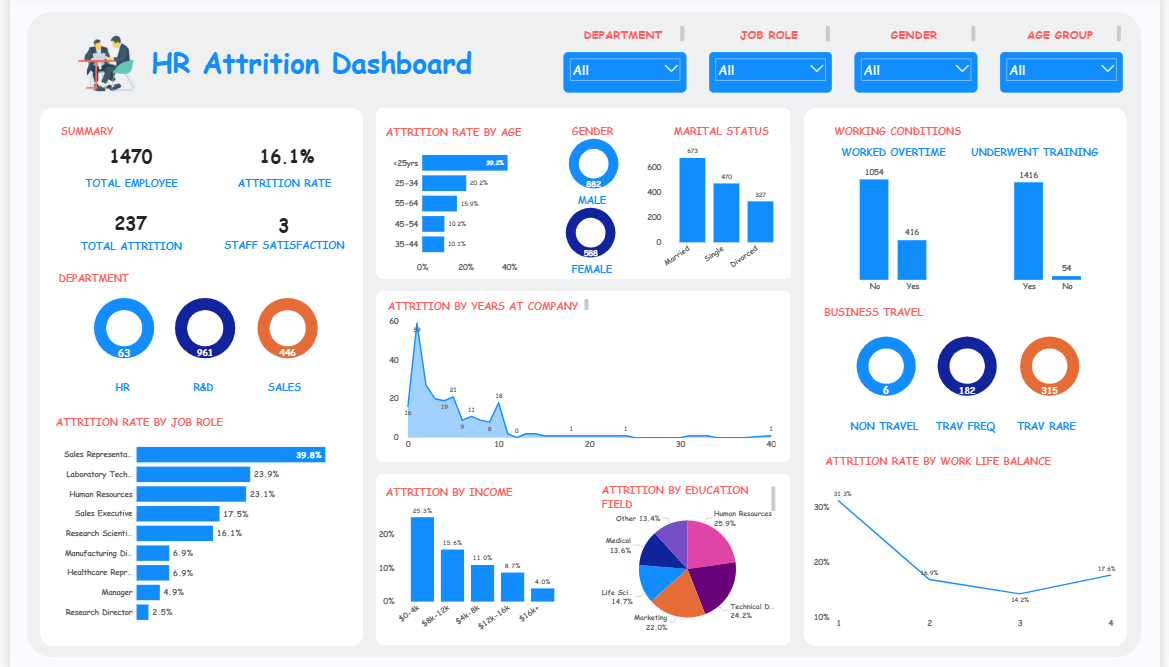

The page's visual inventory and layout, read from the dashboard file:
{"tool":"powerbi","page":{"name":"Page 1","canvas":[2440,1440],"ordinal":0},"visuals":[{"type":"shape","box":[35,35,2365,1370],"z":0},{"type":"textbox","box":[1175,58.9,260.7,42.9],"z":0,"group":"g4"},{"type":"textbox","box":[78.6,578.6,196.4,42.9],"z":0,"group":"g5"},{"type":"donutChart","fields":{"Category":["HR_Data.Department"],"Y":["CountNonNull(HR_Data.EmployeeCount)"]},"box":[135.7,600,210,210],"z":0,"group":"g1"},{"type":"textbox","box":[1696.9,653.1,271.4,44.6],"z":0,"group":"g8"},{"type":"donutChart","fields":{"Y":["CountNonNull(HR_Data.EmployeeCount)"],"Category":["HR_Data.BusinessTravel"]},"box":[1754,677,210,218.3],"z":0,"group":"g2"},{"type":"barChart","fields":{"Category":["HR_Data.JobRole"],"Y":["HR_Data.Attrition Rate"]},"box":[96.5,928.6,635.7,425],"z":0,"group":"g6"},{"type":"textbox","box":[1483.3,58.9,260.7,42.9],"z":1000,"group":"g4"},{"type":"textbox","box":[275,96.4,732.1,110.7],"z":1000},{"type":"group","id":"g1","title":"Group 3","box":[135.7,600,557.1,210.7],"z":1000,"group":"g5"},{"type":"donutChart","fields":{"Category":["HR_Data.Department"],"Y":["CountNonNull(HR_Data.EmployeeCount)"]},"box":[482.1,600,210,210],"z":1000,"group":"g1"},{"type":"group","id":"g2","title":"Group 3","box":[1754,677,557.1,219.1],"z":1000,"group":"g8"},{"type":"donutChart","fields":{"Y":["CountNonNull(HR_Data.EmployeeCount)"],"Category":["HR_Data.BusinessTravel"]},"box":[2100.4,677,210,218.3],"z":1000,"group":"g2"},{"type":"textbox","box":[92.9,885.7,635.7,42.9],"z":1000,"group":"g6"},{"type":"textbox","box":[1791.7,58.9,260.7,42.9],"z":2000,"group":"g4"},{"type":"image","box":[135.7,82.1,139.3,125],"z":2000},{"type":"donutChart","fields":{"Category":["HR_Data.Department"],"Y":["CountNonNull(HR_Data.EmployeeCount)"]},"box":[308.9,600,210,210],"z":2000,"group":"g1"},{"type":"donutChart","fields":{"Y":["CountNonNull(HR_Data.EmployeeCount)"],"Category":["HR_Data.BusinessTravel"]},"box":[1927.2,677,210,218.3],"z":2000,"group":"g2"},{"type":"textbox","box":[435.7,810.7,292.9,42.9],"z":2000,"group":"g5"},{"type":"textbox","box":[2054,896,292.9,44.6],"z":2000,"group":"g8"},{"type":"textbox","box":[2100,58.9,260.7,42.9],"z":3000,"group":"g4"},{"type":"group","id":"g3","title":"Group 1","box":[1175,121.4,1185.7,85.7],"z":3000},{"type":"slicer","fields":{"Values":["HR_Data.Department"]},"box":[1175,121.4,260.7,85.7],"z":3000,"group":"g3"},{"type":"textbox","box":[264.3,810.7,292.9,42.9],"z":3000,"group":"g5"},{"type":"textbox","box":[1882.6,896,292.9,44.6],"z":3000,"group":"g8"},{"type":"group","id":"g4","title":"Group 2","box":[1175,58.9,1185.7,42.9],"z":4000},{"type":"slicer","fields":{"Values":["HR_Data.JobRole"]},"box":[1483.3,121.4,260.7,85.7],"z":4000,"group":"g3"},{"type":"textbox","box":[92.9,810.7,292.9,42.9],"z":4000,"group":"g5"},{"type":"textbox","box":[1711.2,896,292.9,44.6],"z":4000,"group":"g8"},{"type":"slicer","fields":{"Values":["HR_Data.Gender"]},"box":[1791.7,121.4,260.7,85.7],"z":5000,"group":"g3"},{"type":"textbox","box":[1092.5,407.5,292.5,42.5],"z":5000},{"type":"slicer","fields":{"Values":["HR_Data.Age Group"]},"box":[2100,121.4,260.7,85.7],"z":6000,"group":"g3"},{"type":"shape","box":[64.3,239.3,685.7,1142.9],"z":6000},{"type":"shape","box":[1682.1,239.3,685.7,1142.9],"z":7000},{"type":"textbox","box":[78.6,267.9,168,42.9],"z":7000,"group":"g7"},{"type":"card","fields":{"Values":["HR_Data.Total Employees"]},"box":[184.5,289.3,142.4,103.6],"z":8000,"group":"g7"},{"type":"textbox","box":[1725,313.9,299.8,45.1],"z":8000,"group":"g9"},{"type":"group","id":"g5","title":"Group 4","box":[78.6,578.6,650,275],"z":8000},{"type":"textbox","box":[1742.8,268.8,317.6,45.1],"z":9000,"group":"g9"},{"type":"card","fields":{"Values":["HR_Data.Staff Satisfaction"]},"box":[509.4,435.8,142.4,103.6],"z":9000,"group":"g7"},{"type":"group","id":"g6","title":"Group 5","box":[92.9,885.7,639.3,467.9],"z":9000},{"type":"group","id":"g7","title":"Group 6","box":[78.6,267.9,653.6,289.3],"z":10000},{"type":"card","fields":{"Values":["HR_Data.Total Attrition"]},"box":[184.5,432.2,142.4,103.6],"z":10000,"group":"g7"},{"type":"card","fields":{"Values":["HR_Data.Attrition Rate"]},"box":[513.1,289.3,142.4,103.6],"z":11000,"group":"g7"},{"type":"group","id":"g8","title":"Group 4","box":[1696.9,653.1,650,287.5],"z":11000},{"type":"shape","box":[775.9,237.9,879.3,364],"z":12000},{"type":"textbox","box":[107.8,378.6,299.4,42.9],"z":12000,"group":"g7"},{"type":"columnChart","fields":{"Category":["HR_Data.OverTime"],"Y":["CountNonNull(HR_Data.EmployeeCount)"]},"box":[1725,347.7,299.8,293],"z":13000,"group":"g9"},{"type":"textbox","box":[432.8,378.6,299.4,42.9],"z":13000,"group":"g7"},{"type":"shape","box":[775.9,625.9,879.3,364],"z":13000},{"type":"columnChart","fields":{"Y":["CountNonNull(HR_Data.EmployeeCount)"],"Category":["HR_Data.UnderwentTraining"]},"box":[2053.3,347.7,299.8,293],"z":14000,"group":"g9"},{"type":"textbox","box":[107.8,514.3,299.4,42.9],"z":14000,"group":"g7"},{"type":"shape","box":[775.9,1013.8,879.3,364],"z":14000},{"type":"textbox","box":[793.1,269,320.7,41.4],"z":15000},{"type":"textbox","box":[2024.8,313.9,299.8,45.1],"z":15000,"group":"g9"},{"type":"textbox","box":[432.8,510.8,299.4,42.9],"z":15000,"group":"g7"},{"type":"textbox","box":[1186.7,268.3,320,41.7],"z":16000},{"type":"textbox","box":[1403.3,268.3,321.7,41.7],"z":17000},{"type":"barChart","fields":{"Category":["HR_Data.Age Group"],"Y":["HR_Data.Attrition Rate"]},"box":[804,310,310,290],"z":18000},{"type":"donutChart","fields":{"Category":["HR_Data.Gender"],"Y":["CountNonNull(HR_Data.EmployeeCount)"]},"box":[1132.5,280,210,155],"z":19000},{"type":"donutChart","fields":{"Category":["HR_Data.Gender"],"Y":["CountNonNull(HR_Data.EmployeeCount)"]},"box":[1126.7,426.7,210,155],"z":20000},{"type":"columnChart","fields":{"Category":["HR_Data.MaritalStatus"],"Y":["Sum(HR_Data.EmployeeCount)"]},"box":[1345,310,310,291.7],"z":21000},{"type":"textbox","box":[793.9,639.4,436.4,36.4],"z":22000},{"type":"textbox","box":[792.5,1032.5,300,65],"z":23000},{"type":"columnChart","fields":{"Category":["HR_Data.Income Group"],"Y":["HR_Data.Attrition Rate"]},"box":[777.5,1065,410,302.5],"z":24000},{"type":"textbox","box":[1087.5,412.5,292.5,42.5],"z":32000},{"type":"textbox","box":[1087.5,560,292.5,42.5],"z":33000},{"type":"textbox","box":[1725,967.5,552.5,47.5],"z":35000},{"type":"group","id":"g9","title":"Group 7","box":[1725,268.8,628.1,371.9],"z":41000},{"type":"areaChart","fields":{"Category":["HR_Data.YearsAtCompany"],"Y":["HR_Data.Total Attrition"]},"box":[797.5,675,830,300],"z":42000},{"type":"lineChart","fields":{"Category":["HR_Data.WorkLifeBalance"],"Y":["HR_Data.Attrition Rate"]},"box":[1697.5,1015,650,340],"z":42001},{"type":"pieChart","fields":{"Category":["HR_Data.EducationField"],"Y":["HR_Data.Attrition Rate"]},"box":[1250,1065,372.5,302.5],"z":42002},{"type":"textbox","box":[1250,1032.5,377.5,65],"z":42003}]}

Visuals, with their boxes on the page's 2440x1440 design canvas (x1, y1, x2, y2). These are canvas units, not pixel positions in the 1169x667 screenshot, which may show the page scaled, cropped or inside an application window:
shape: crop(35, 35, 2400, 1405)
textbox: crop(1175, 59, 1436, 102)
textbox: crop(79, 579, 275, 622)
donutChart - HR_Data.Department x CountNonNull(HR_Data.EmployeeCount): crop(136, 600, 346, 810)
textbox: crop(1697, 653, 1968, 698)
donutChart - CountNonNull(HR_Data.EmployeeCount) x HR_Data.BusinessTravel: crop(1754, 677, 1964, 895)
barChart - HR_Data.JobRole x HR_Data.Attrition Rate: crop(96, 929, 732, 1354)
textbox: crop(1483, 59, 1744, 102)
textbox: crop(275, 96, 1007, 207)
"Group 3" group: crop(136, 600, 693, 811)
donutChart - HR_Data.Department x CountNonNull(HR_Data.EmployeeCount): crop(482, 600, 692, 810)
"Group 3" group: crop(1754, 677, 2311, 896)
donutChart - CountNonNull(HR_Data.EmployeeCount) x HR_Data.BusinessTravel: crop(2100, 677, 2310, 895)
textbox: crop(93, 886, 729, 929)
textbox: crop(1792, 59, 2052, 102)
image: crop(136, 82, 275, 207)
donutChart - HR_Data.Department x CountNonNull(HR_Data.EmployeeCount): crop(309, 600, 519, 810)
donutChart - CountNonNull(HR_Data.EmployeeCount) x HR_Data.BusinessTravel: crop(1927, 677, 2137, 895)
textbox: crop(436, 811, 729, 854)
textbox: crop(2054, 896, 2347, 941)
textbox: crop(2100, 59, 2361, 102)
"Group 1" group: crop(1175, 121, 2361, 207)
slicer - HR_Data.Department: crop(1175, 121, 1436, 207)
textbox: crop(264, 811, 557, 854)
textbox: crop(1883, 896, 2176, 941)
"Group 2" group: crop(1175, 59, 2361, 102)
slicer - HR_Data.JobRole: crop(1483, 121, 1744, 207)
textbox: crop(93, 811, 386, 854)
textbox: crop(1711, 896, 2004, 941)
slicer - HR_Data.Gender: crop(1792, 121, 2052, 207)
textbox: crop(1092, 408, 1385, 450)
slicer - HR_Data.Age Group: crop(2100, 121, 2361, 207)
shape: crop(64, 239, 750, 1382)
shape: crop(1682, 239, 2368, 1382)
textbox: crop(79, 268, 247, 311)
card - HR_Data.Total Employees: crop(184, 289, 327, 393)
textbox: crop(1725, 314, 2025, 359)
"Group 4" group: crop(79, 579, 729, 854)
textbox: crop(1743, 269, 2060, 314)
card - HR_Data.Staff Satisfaction: crop(509, 436, 652, 539)
"Group 5" group: crop(93, 886, 732, 1354)
"Group 6" group: crop(79, 268, 732, 557)
card - HR_Data.Total Attrition: crop(184, 432, 327, 536)
card - HR_Data.Attrition Rate: crop(513, 289, 656, 393)
"Group 4" group: crop(1697, 653, 2347, 941)
shape: crop(776, 238, 1655, 602)
textbox: crop(108, 379, 407, 422)
columnChart - HR_Data.OverTime x CountNonNull(HR_Data.EmployeeCount): crop(1725, 348, 2025, 641)
textbox: crop(433, 379, 732, 422)
shape: crop(776, 626, 1655, 990)
columnChart - CountNonNull(HR_Data.EmployeeCount) x HR_Data.UnderwentTraining: crop(2053, 348, 2353, 641)
textbox: crop(108, 514, 407, 557)
shape: crop(776, 1014, 1655, 1378)
textbox: crop(793, 269, 1114, 310)
textbox: crop(2025, 314, 2325, 359)
textbox: crop(433, 511, 732, 554)
textbox: crop(1187, 268, 1507, 310)
textbox: crop(1403, 268, 1725, 310)
barChart - HR_Data.Age Group x HR_Data.Attrition Rate: crop(804, 310, 1114, 600)
donutChart - HR_Data.Gender x CountNonNull(HR_Data.EmployeeCount): crop(1132, 280, 1342, 435)
donutChart - HR_Data.Gender x CountNonNull(HR_Data.EmployeeCount): crop(1127, 427, 1337, 582)
columnChart - HR_Data.MaritalStatus x Sum(HR_Data.EmployeeCount): crop(1345, 310, 1655, 602)
textbox: crop(794, 639, 1230, 676)
textbox: crop(792, 1032, 1092, 1098)
columnChart - HR_Data.Income Group x HR_Data.Attrition Rate: crop(778, 1065, 1188, 1368)
textbox: crop(1088, 412, 1380, 455)
textbox: crop(1088, 560, 1380, 602)
textbox: crop(1725, 968, 2278, 1015)
"Group 7" group: crop(1725, 269, 2353, 641)
areaChart - HR_Data.YearsAtCompany x HR_Data.Total Attrition: crop(798, 675, 1628, 975)
lineChart - HR_Data.WorkLifeBalance x HR_Data.Attrition Rate: crop(1698, 1015, 2348, 1355)
pieChart - HR_Data.EducationField x HR_Data.Attrition Rate: crop(1250, 1065, 1622, 1368)
textbox: crop(1250, 1032, 1628, 1098)
